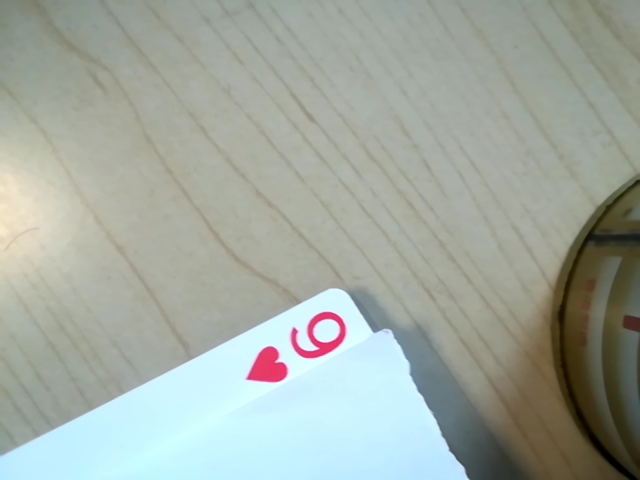hx 9: (243, 306, 366, 384)
